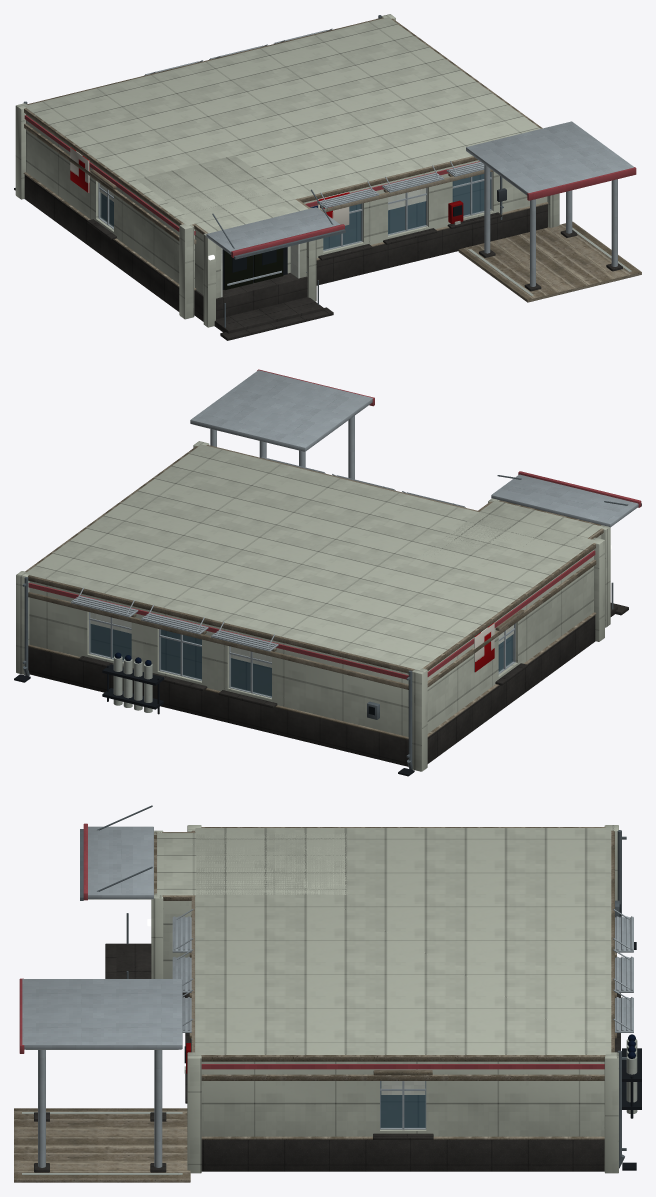
The model's file is fac_medical_main.glb.
3 renders of one model, top to bottom at view 1: azimuth 30°, elevation 25°; view 2: azimuth 150°, elevation 25°; view 3: azimuth 270°, elevation 25°, orthographic. The views are drawn at different scales.
Visible parts, largest first — view 1: FAC_MEDICAL_MAIN; view 2: FAC_MEDICAL_MAIN; view 3: FAC_MEDICAL_MAIN.
Part boxes in pixels (box(x1,y1,x2,y2)): FAC_MEDICAL_MAIN: box(14, 14, 641, 340); FAC_MEDICAL_MAIN: box(14, 369, 641, 776); FAC_MEDICAL_MAIN: box(14, 805, 641, 1182).
Bounding box in the file's own units: 14.33 × 3.98 × 15.65.
Materials: 22 (17 with a texture image).
